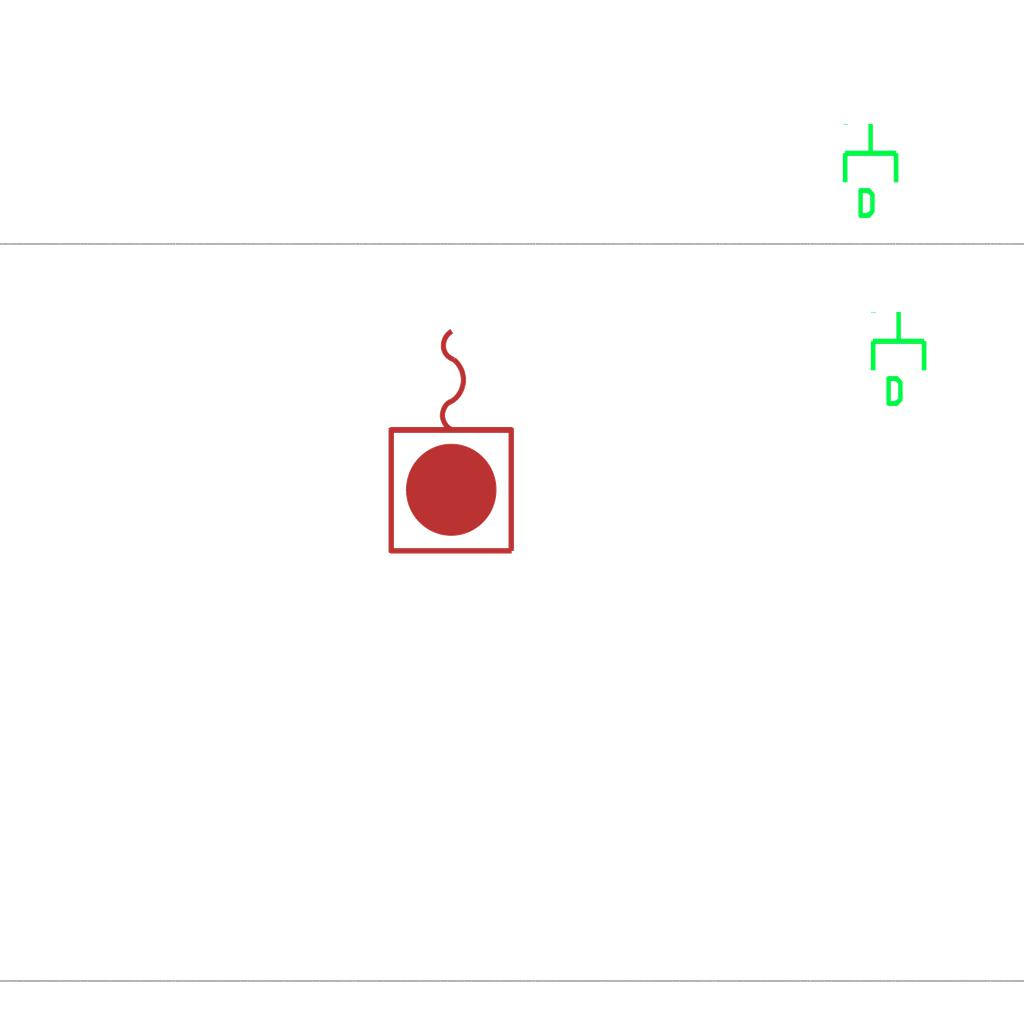Datenanschluss_einfach: (838, 121, 907, 221), (866, 309, 935, 409)
Zugtaster: (381, 318, 525, 562)
